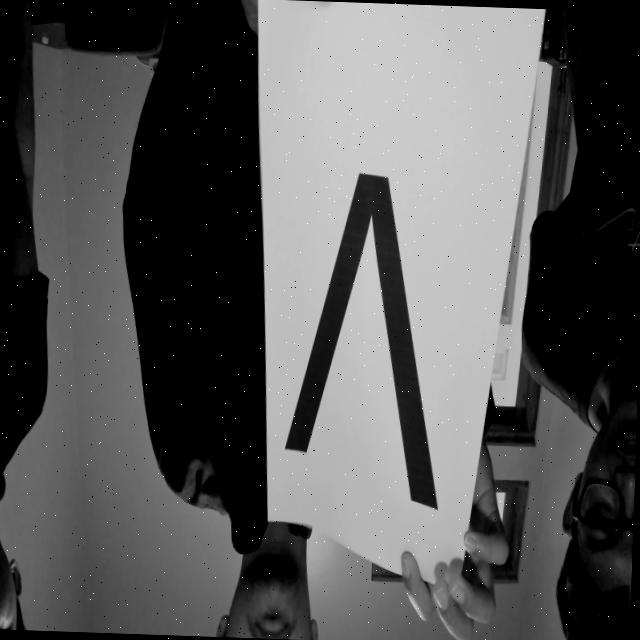v: (248, 113, 466, 554)
